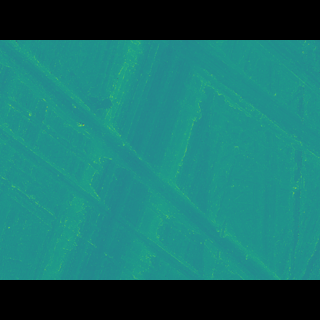Loch: (0, 69, 290, 250), (154, 68, 320, 168)
